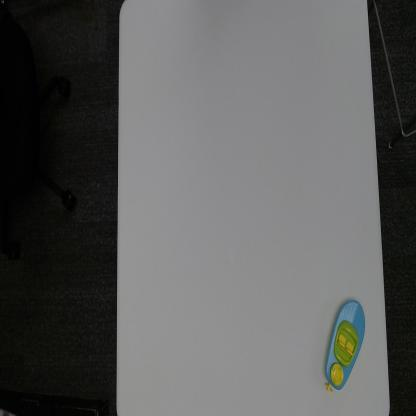Boat: (318, 293, 368, 398)
